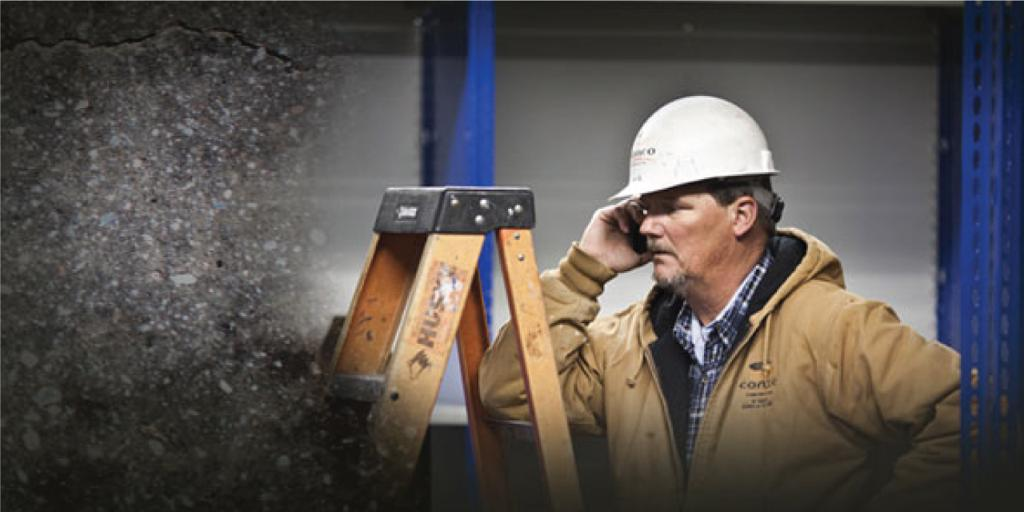face: (646, 158, 740, 284)
